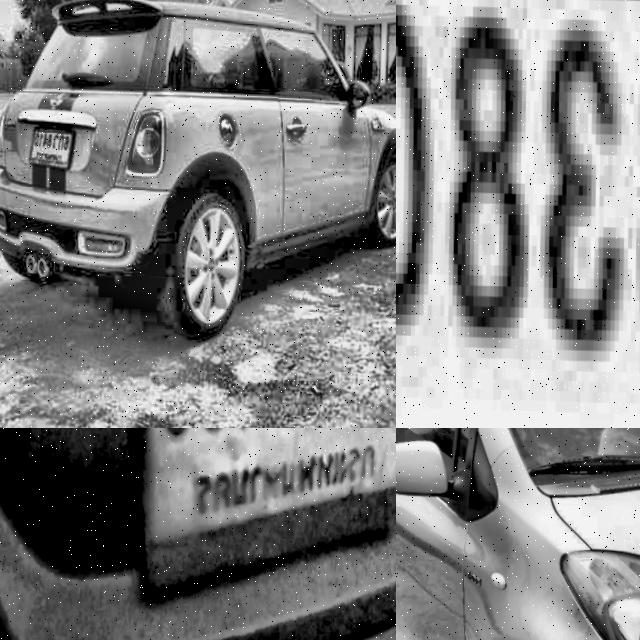license-plate: (396, 0, 640, 428), (133, 428, 396, 560), (25, 125, 74, 169)
